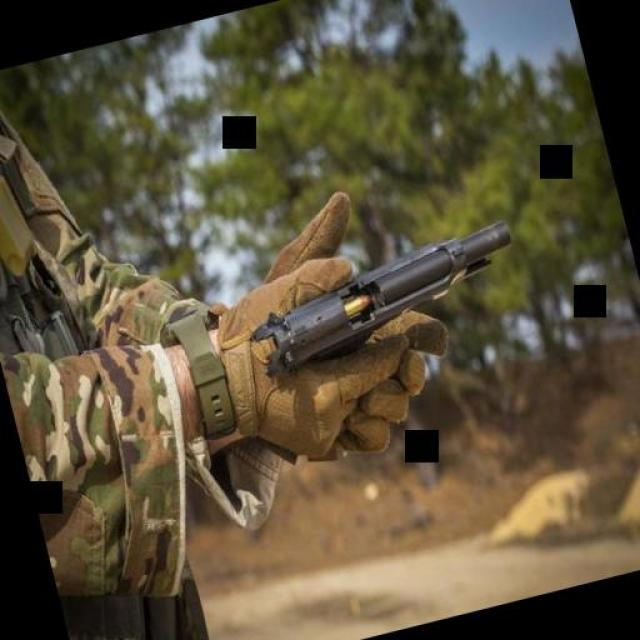gun: (234, 212, 528, 376)
